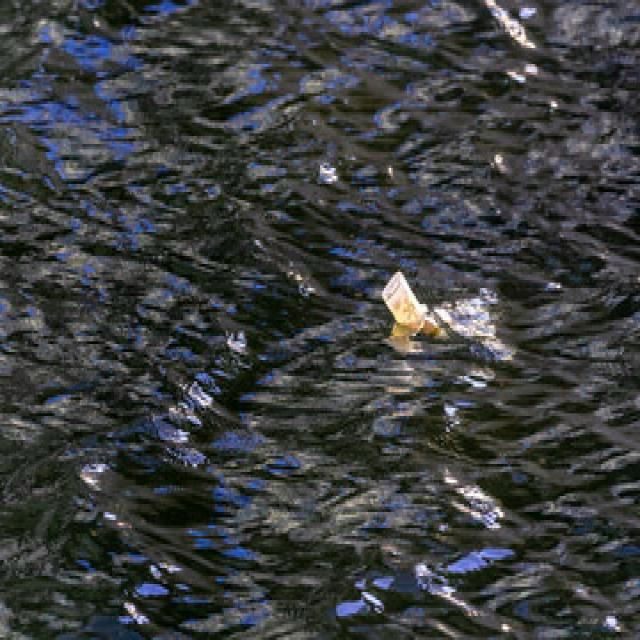Plastic: (384, 266, 427, 332)
